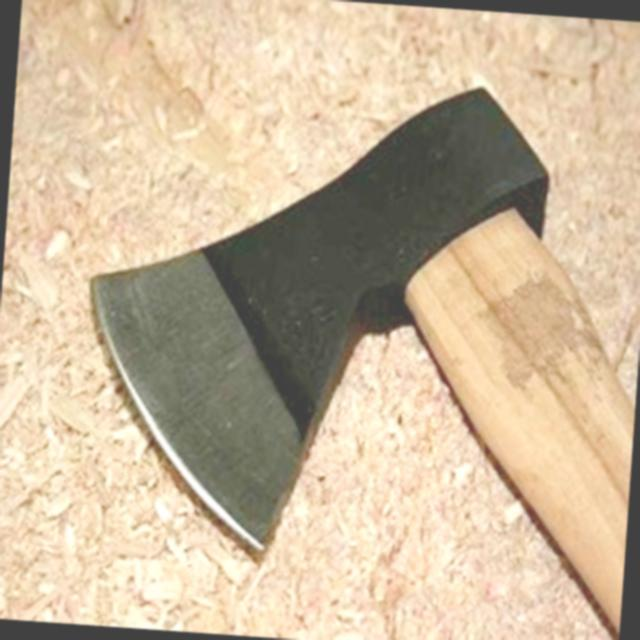ax: (52, 46, 640, 640)
